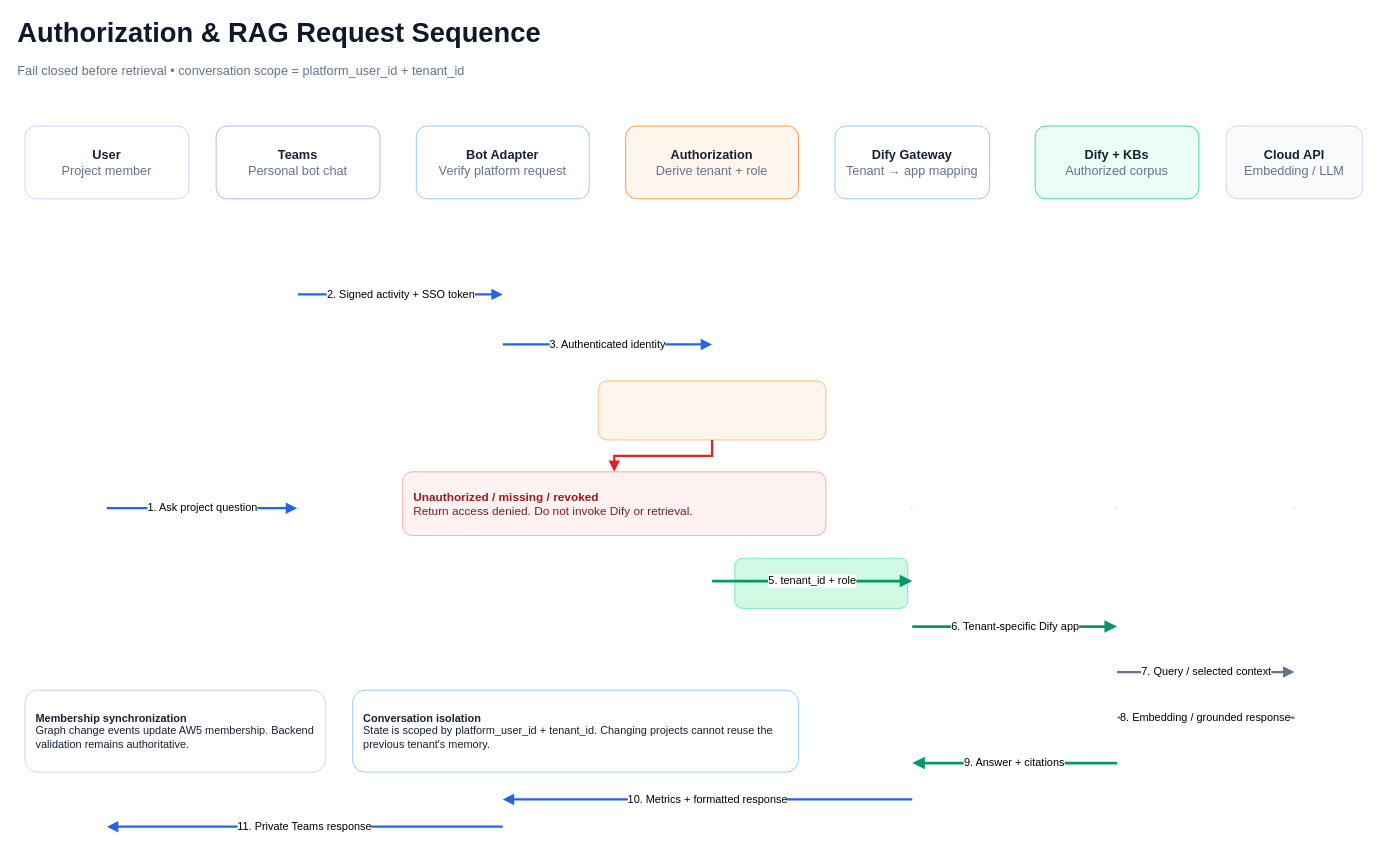
Some shapes in this 1379 by 851 pixel diagram are drawn without their labels. The shapes that lost their labels are listed below. From the top down, each one's centre as x and y in pixels, then its label:
the point at 711,410: 4. Resolve trusted membership derive tenant_id + role • fail closed
the point at 821,582: Authorized only No caller-supplied project scope
